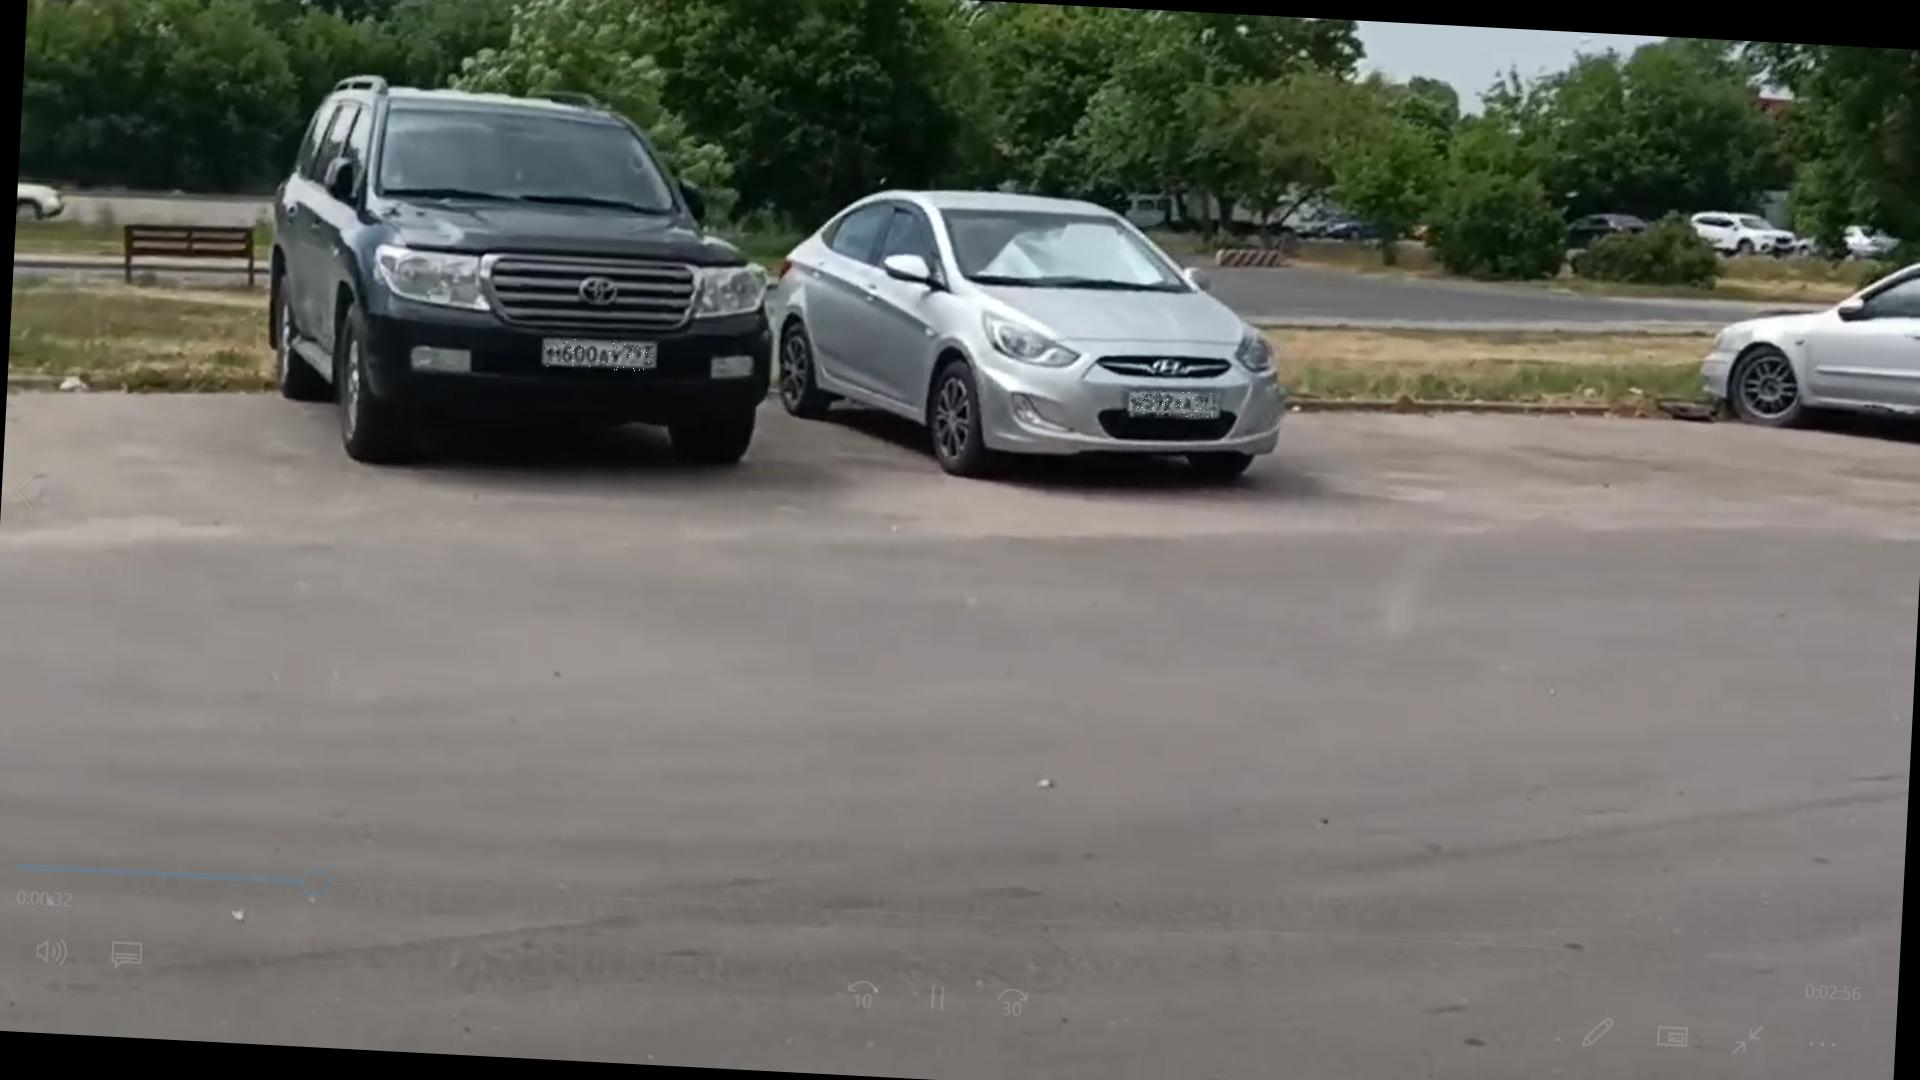plate: (544, 338, 658, 373), (1129, 390, 1217, 421)
